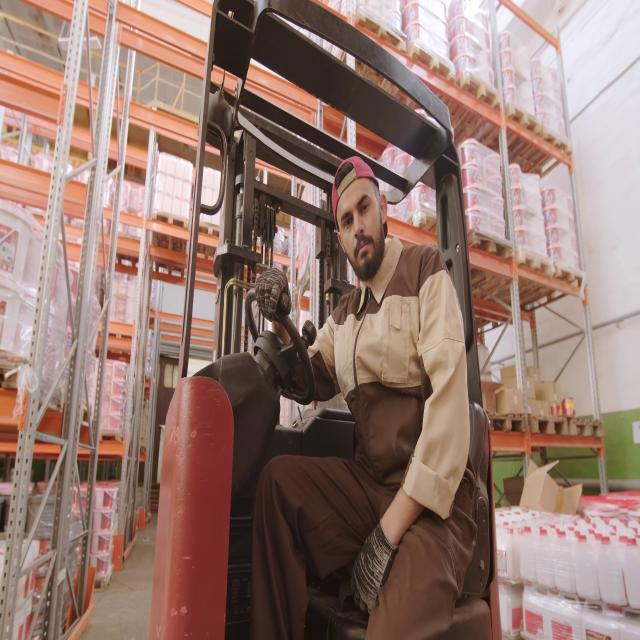gloved: (350, 518, 398, 614), (254, 265, 292, 322)
